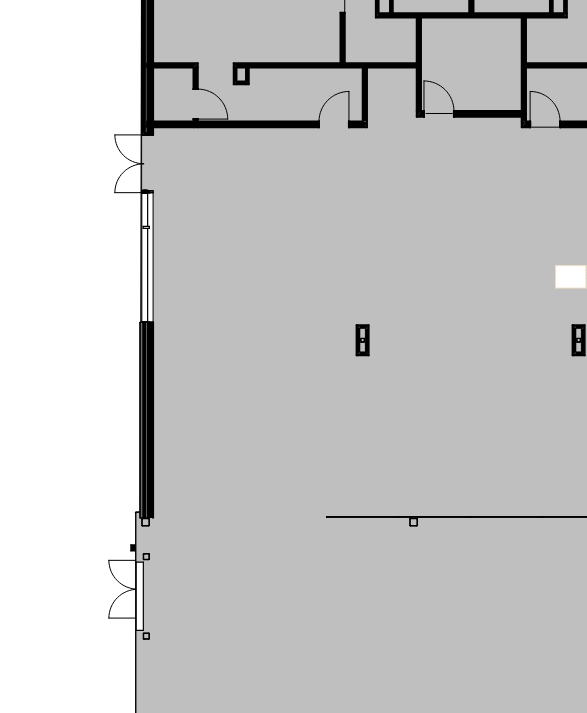door: (420, 77, 456, 125), (527, 84, 563, 131), (187, 87, 232, 123), (316, 88, 352, 133)
double door: (108, 131, 145, 195), (106, 557, 139, 625)
window: (137, 189, 161, 327)
